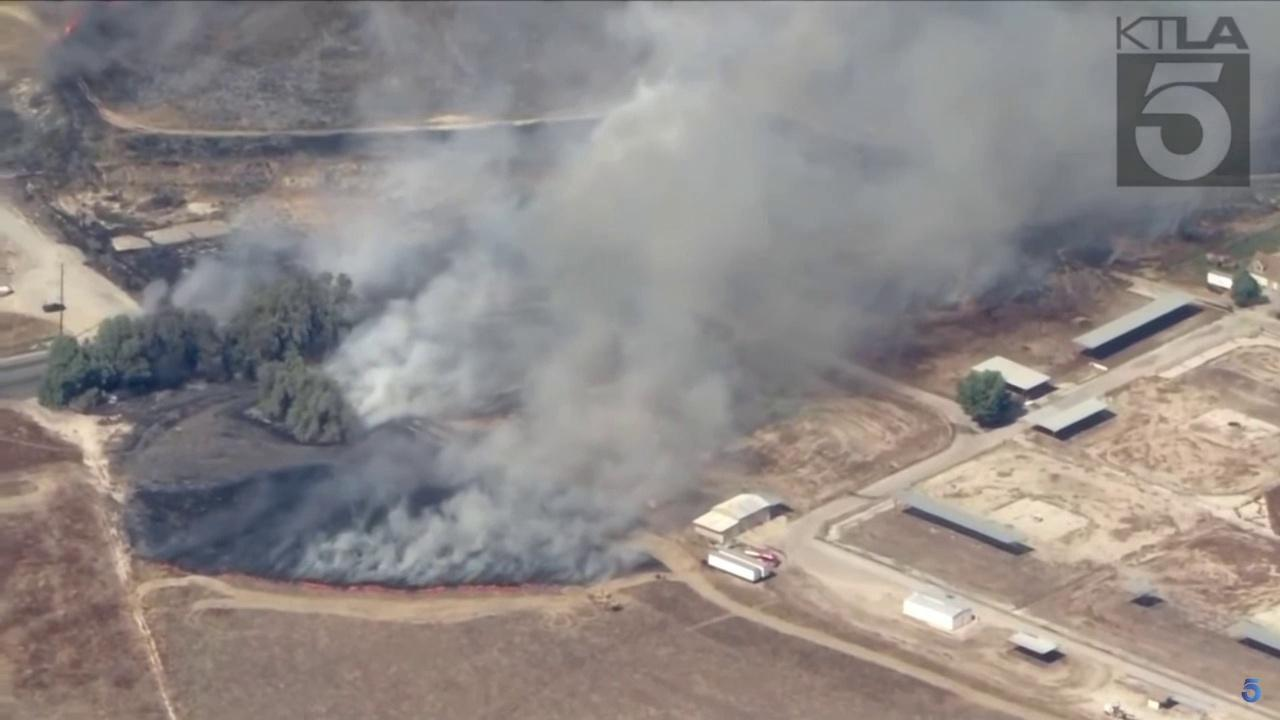fire: (347, 585, 561, 597), (298, 580, 336, 591), (62, 23, 73, 34)
smoke: (141, 0, 1280, 583), (0, 0, 223, 147)
